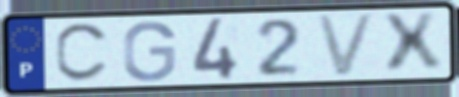2: (255, 17, 306, 79)
4: (190, 16, 242, 83)
C: (52, 21, 113, 85)
G: (120, 19, 178, 84)
V: (312, 11, 380, 80)
X: (377, 10, 447, 78)
